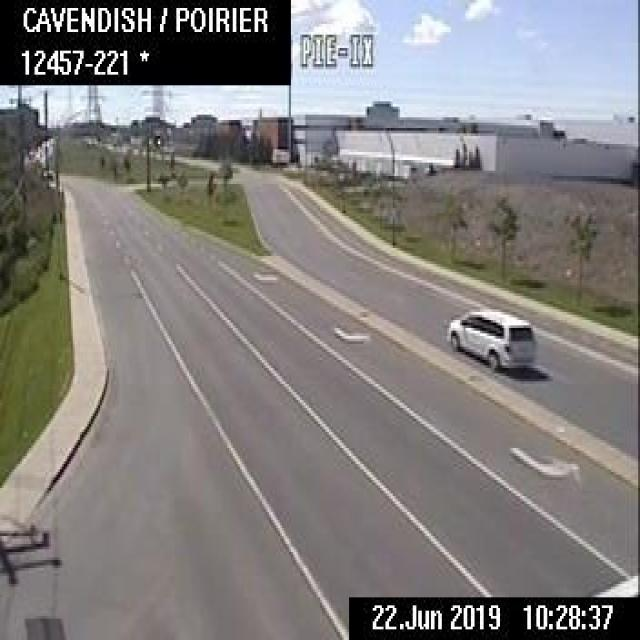vehicle: (447, 308, 538, 370)
